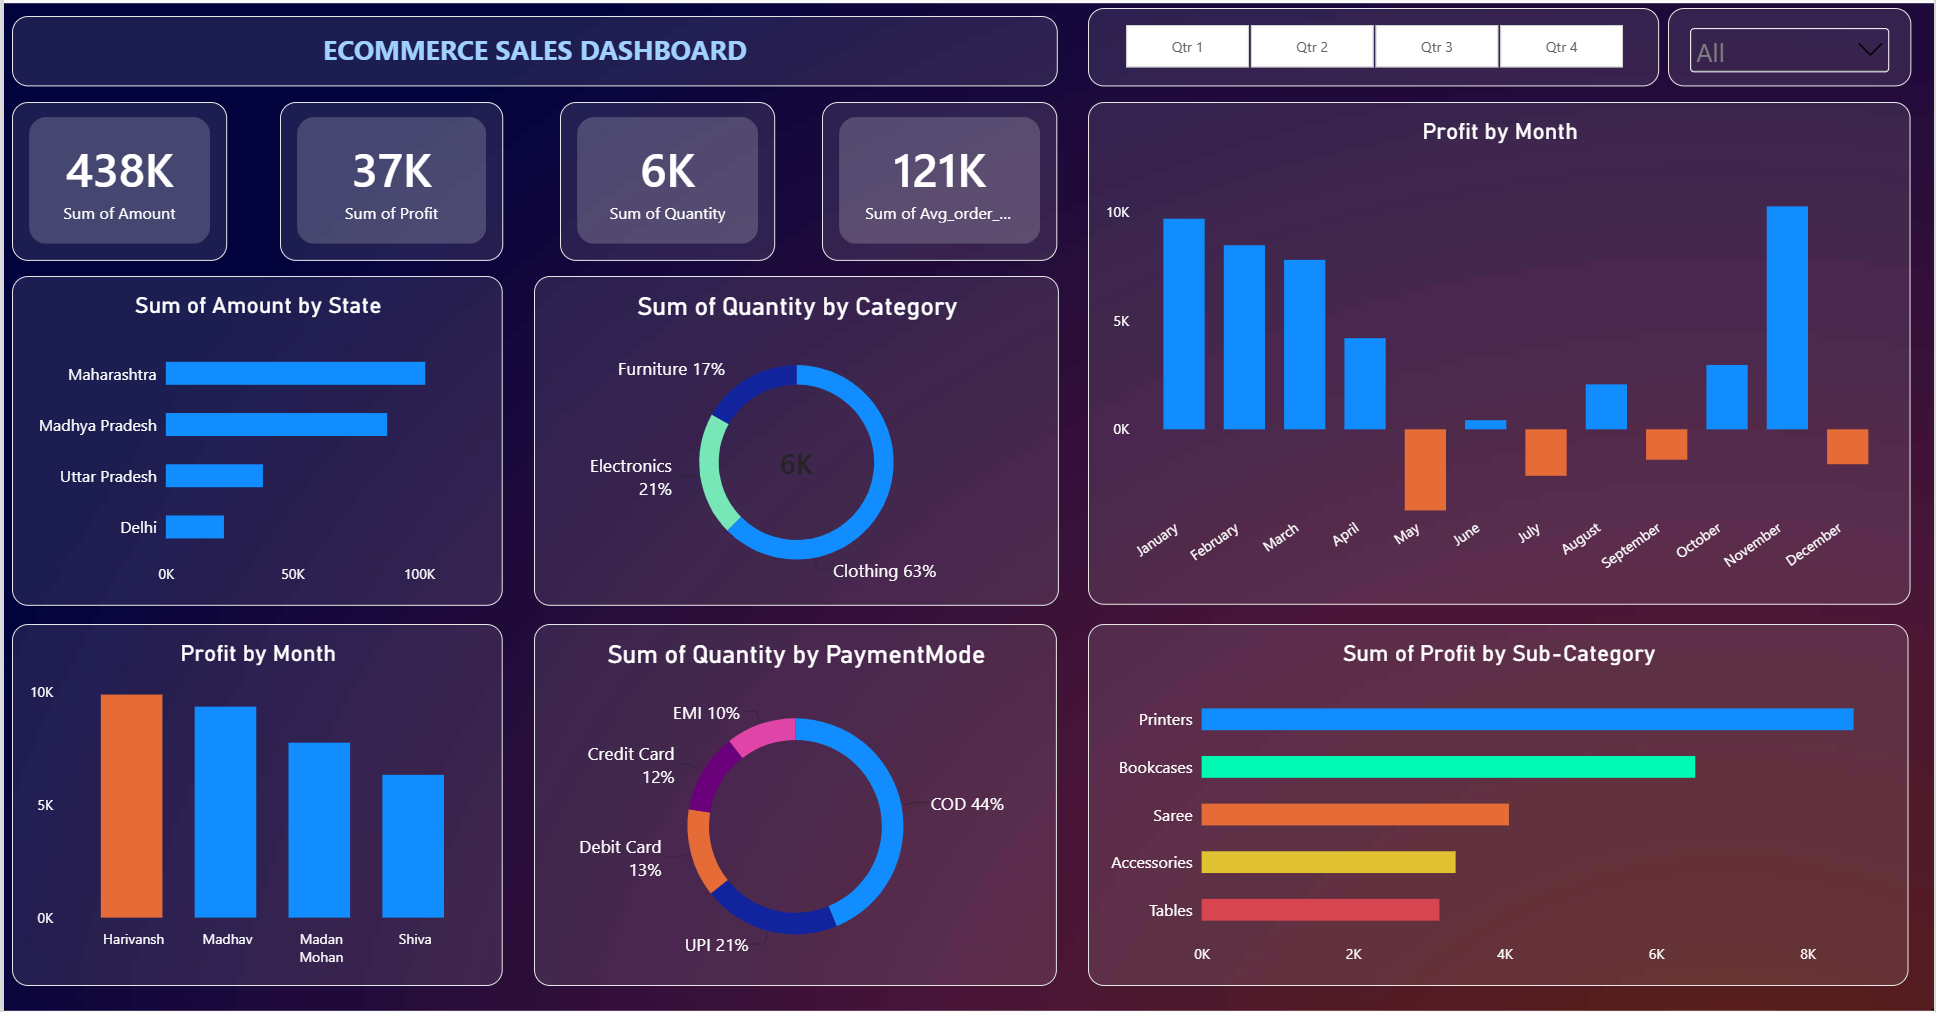

The dashboard page shown, as its layout file describes it:
{"tool":"powerbi","page":{"name":"Page 1","canvas":[1920,1080],"ordinal":0},"visuals":[{"type":"textbox","box":[8,48,1040,70],"z":0},{"type":"columnChart","title":"Profit by Month","fields":{"Category":["Orders.Order Date.Variation.Date Hierarchy.Month"],"Y":["Sum(Details.Profit)"]},"box":[1078,134,818,500],"z":1},{"type":"clusteredBarChart","fields":{"Category":["Details.Sub-Category"],"Y":["Sum(Details.Profit)"]},"box":[1078,652,816,360],"z":2},{"type":"donutChart","fields":{"Series":["Details.Category"],"Y":["Sum(Details.Quantity)"]},"box":[528,306,522,328],"z":3},{"type":"donutChart","fields":{"Category":["Details.PaymentMode"],"Y":["Sum(Details.Quantity)"]},"box":[528,652,520,360],"z":4},{"type":"cardVisual","fields":{"Data":["Sum(Details.Amount)"]},"box":[8,134,214,158],"z":5},{"type":"cardVisual","fields":{"Data":["Sum(Details.Profit)"]},"box":[274,134,222,158],"z":6},{"type":"cardVisual","fields":{"Data":["Sum(Details.Quantity)"]},"box":[552,134,214,158],"z":7},{"type":"cardVisual","fields":{"Data":["Sum(Details.Avg_order_value)"]},"box":[814,134,234,158],"z":8},{"type":"clusteredBarChart","fields":{"Category":["Orders.State"],"Y":["Sum(Details.Amount)"]},"box":[8,306,488,328],"z":9},{"type":"columnChart","title":"Profit by Month","fields":{"Category":["Orders.CustomerName"],"Y":["Sum(Details.Amount)"]},"box":[8,652,488,360],"z":10},{"type":"slicer","fields":{"Values":["Orders.Order Date.Variation.Date Hierarchy.Quarter"]},"box":[1078,40,568,78],"z":11},{"type":"slicer","fields":{"Values":["Orders.State"]},"box":[1654,40,242,78],"z":12}]}

Visuals, with their boxes on the page's 1920x1080 design canvas (x1, y1, x2, y2). These are canvas units, not pixel positions in the 1936x1012 screenshot, which may show the page scaled, cropped or inside an application window:
textbox: [8,48,1048,118]
"Profit by Month" columnChart: [1078,134,1896,634]
clusteredBarChart - Details.Sub-Category x Sum(Details.Profit): [1078,652,1894,1012]
donutChart - Details.Category x Sum(Details.Quantity): [528,306,1050,634]
donutChart - Details.PaymentMode x Sum(Details.Quantity): [528,652,1048,1012]
cardVisual - Sum(Details.Amount): [8,134,222,292]
cardVisual - Sum(Details.Profit): [274,134,496,292]
cardVisual - Sum(Details.Quantity): [552,134,766,292]
cardVisual - Sum(Details.Avg_order_value): [814,134,1048,292]
clusteredBarChart - Orders.State x Sum(Details.Amount): [8,306,496,634]
"Profit by Month" columnChart: [8,652,496,1012]
slicer - Orders.Order Date.Variation.Date Hierarchy.Quarter: [1078,40,1646,118]
slicer - Orders.State: [1654,40,1896,118]
